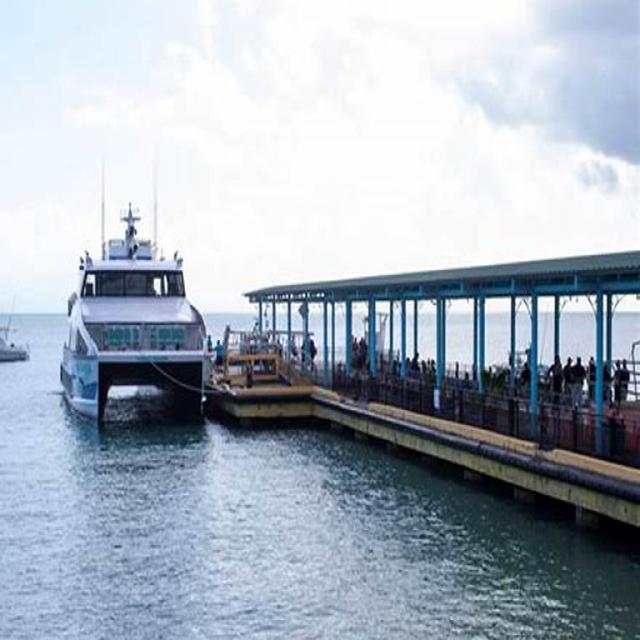houseboat: (58, 205, 211, 422), (0, 311, 43, 367)
